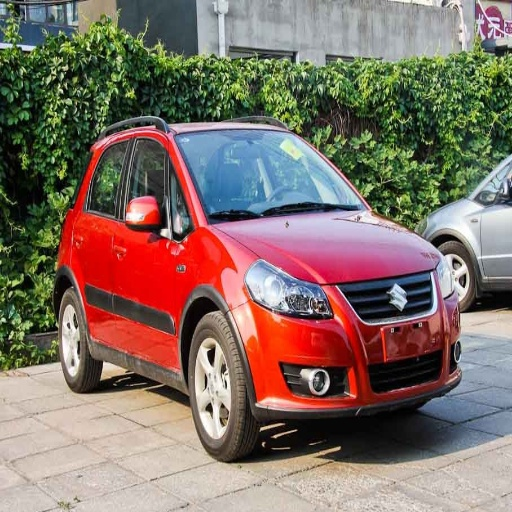front_bumper: (233, 269, 459, 423)
front_glass: (176, 130, 367, 222)
front_right_door: (114, 134, 192, 366)
front_right_light: (245, 260, 334, 317)
